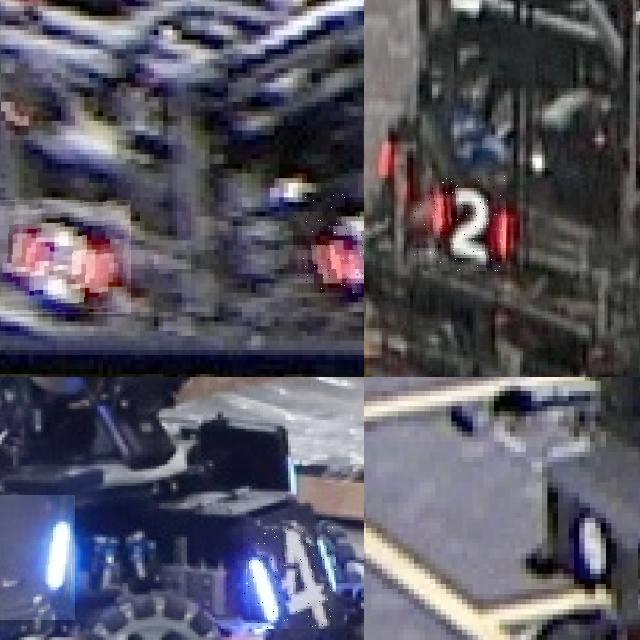B3: (0, 494, 74, 620)
B4: (243, 526, 336, 629)
R2: (0, 199, 130, 314), (414, 175, 506, 271), (295, 192, 364, 297)
